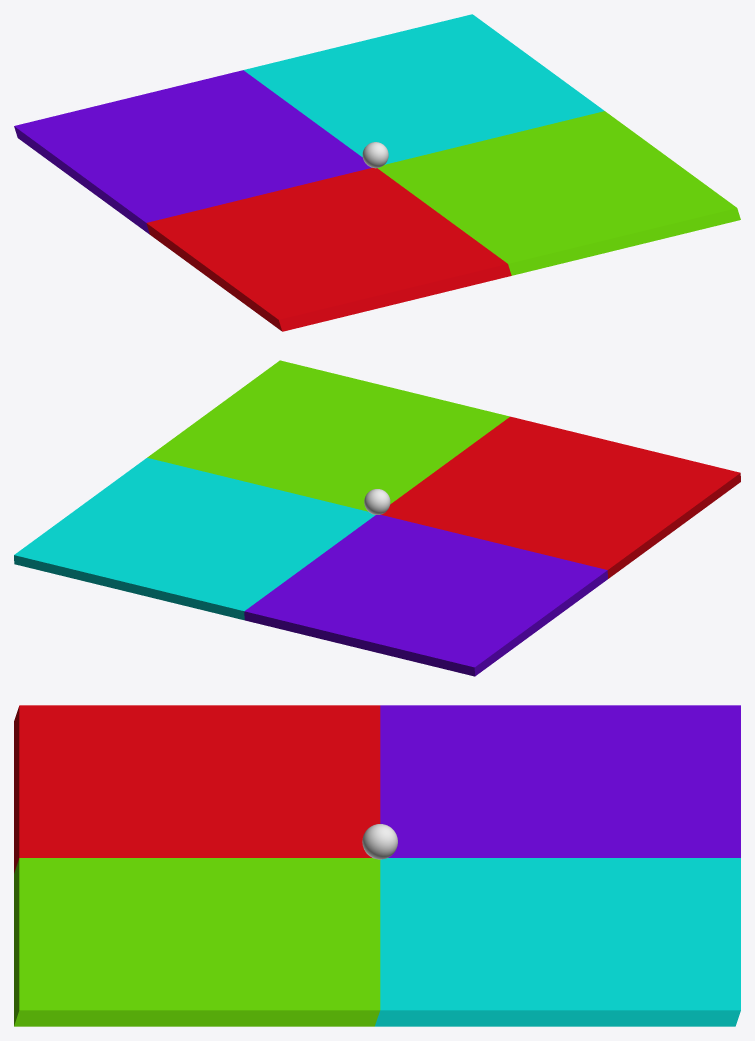
File: IrradianceVolumeExample.glb
The picture shows the model from 3 angles, top to bottom: view 1: azimuth 30°, elevation 25°; view 2: azimuth 150°, elevation 25°; view 3: azimuth 270°, elevation 25°; orthographic projection. The views are drawn at different scales.
Parts seen in each view (by area): view 1: Plane, Sphere; view 2: Plane, Sphere; view 3: Plane, Sphere.
Boxes of the visible parts, x1=… form: Plane: x1=14, y1=14, x2=740, y2=331; Sphere: x1=362, y1=142, x2=388, y2=168; Plane: x1=14, y1=360, x2=740, y2=676; Sphere: x1=364, y1=489, x2=390, y2=514; Plane: x1=14, y1=705, x2=740, y2=1026; Sphere: x1=362, y1=824, x2=397, y2=859.
Size of the model in its own units: 40.55 by 2.92 by 40.7.
